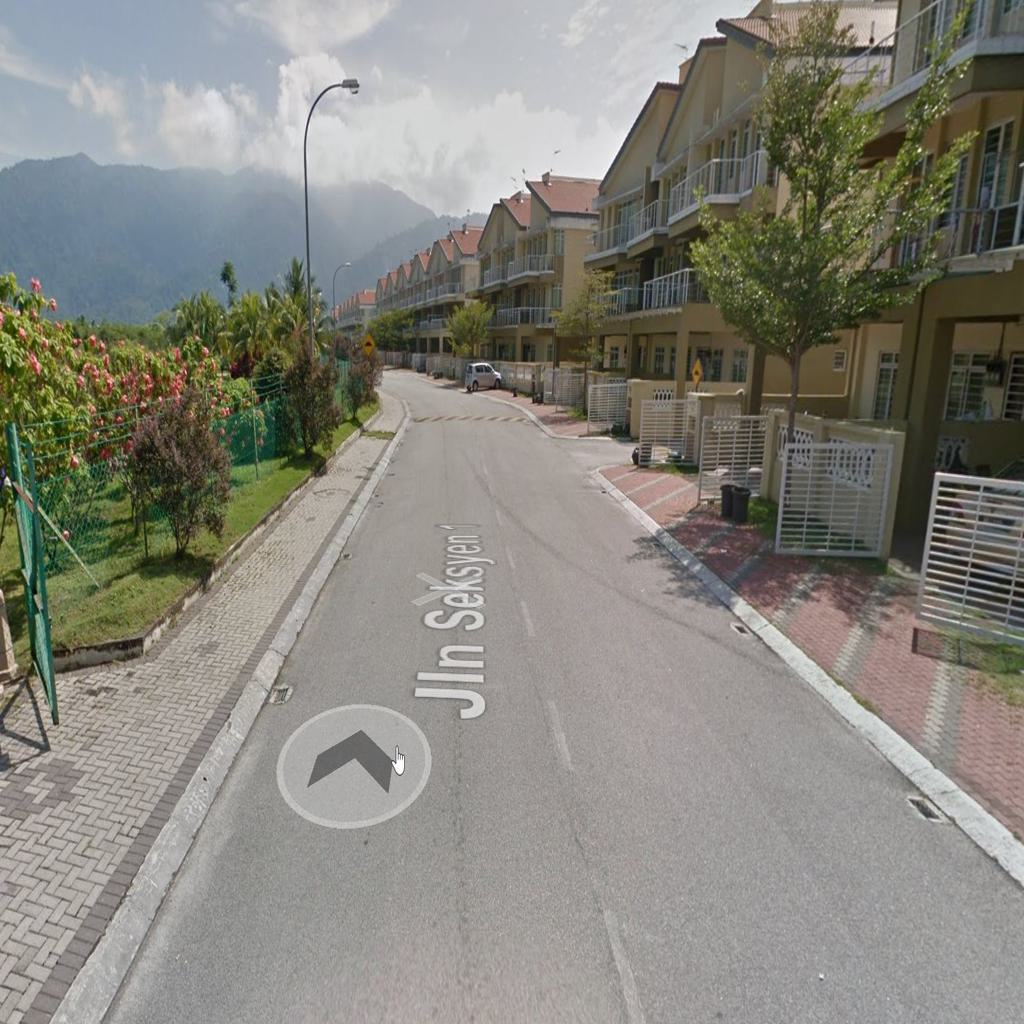Junction: (530, 417, 681, 481)
